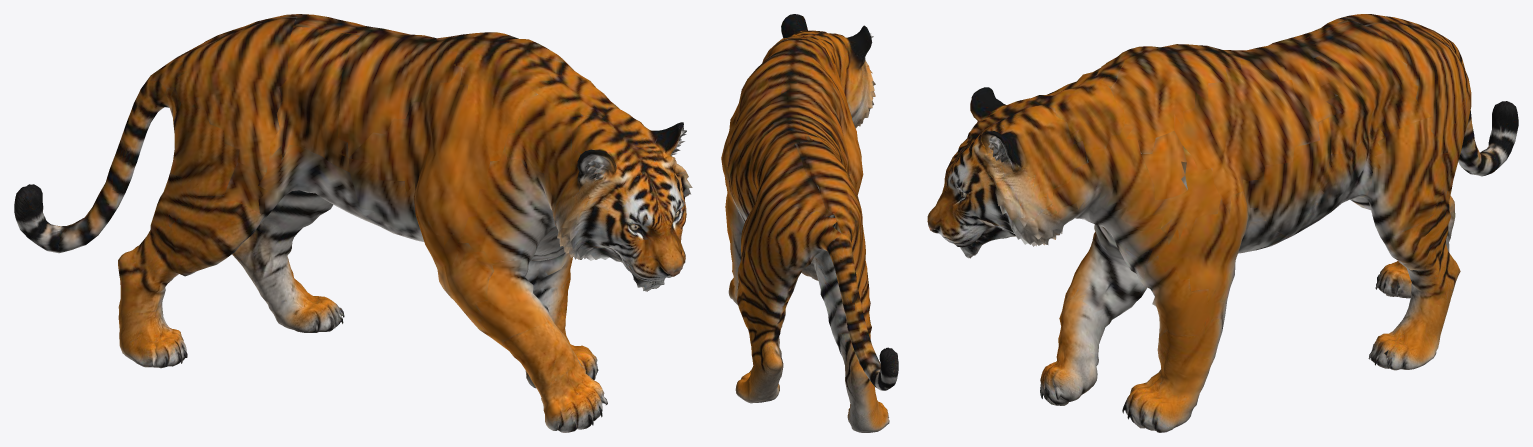
The model's file is tiger.glb.
3 renders of one model, left to right at view 1: azimuth 30°, elevation 25°; view 2: azimuth 150°, elevation 25°; view 3: azimuth 270°, elevation 25°, orthographic. The views are drawn at different scales.
Bounding box in the file's own units: 0.7607 × 0.6147 × 0.9517.
1 material, 1 textured.
